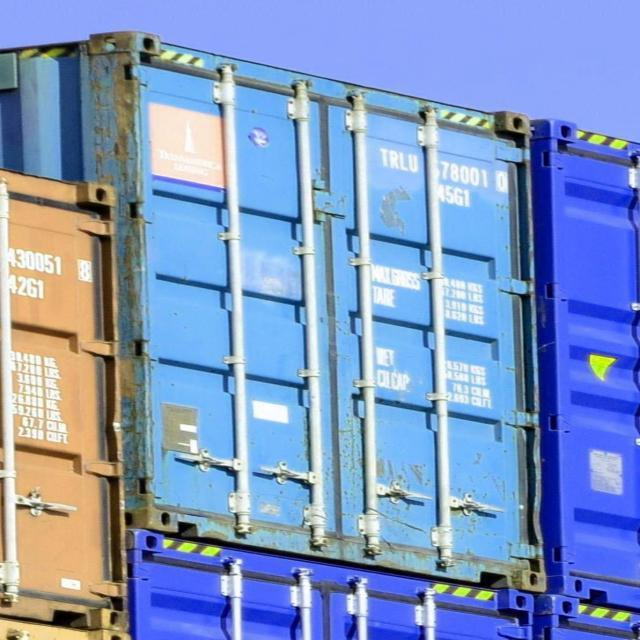ISO: (433, 182, 474, 208)
container_number: (380, 144, 513, 194)
